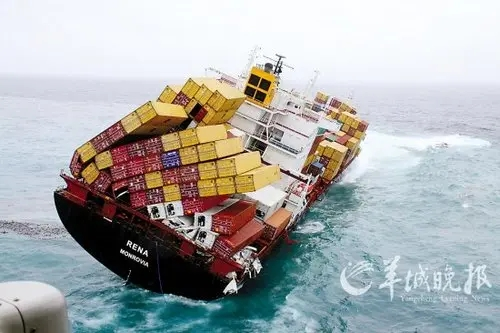Cargoship: (52, 42, 369, 305)
